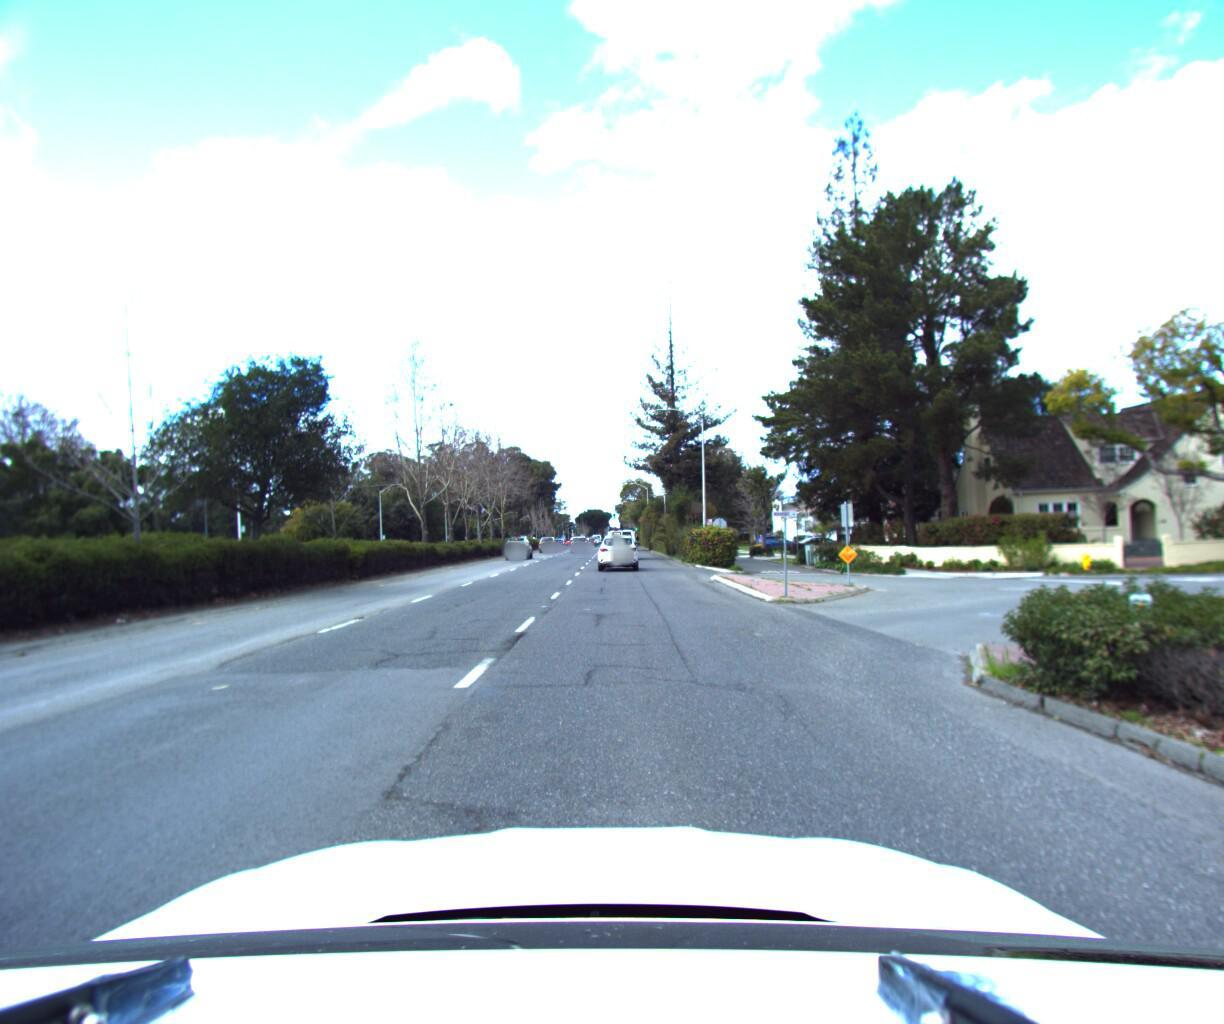car: (596, 534, 641, 576), (607, 526, 642, 563), (756, 536, 806, 555), (506, 538, 537, 563), (572, 538, 594, 556)
